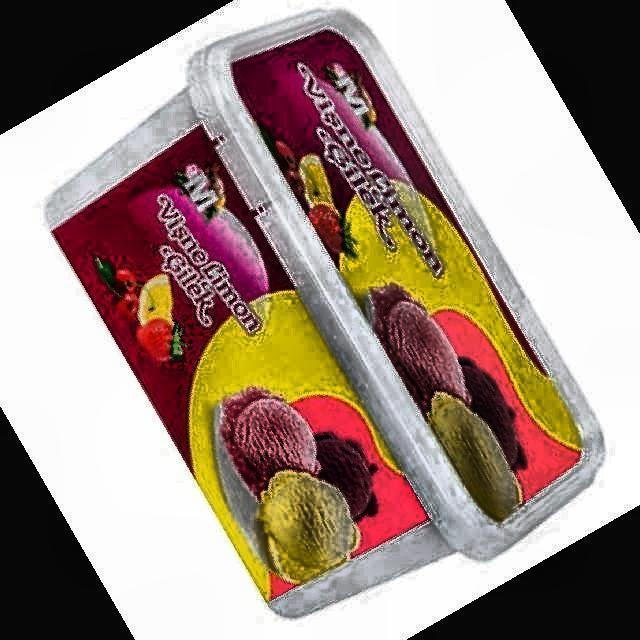plastic: (45, 10, 604, 617)
